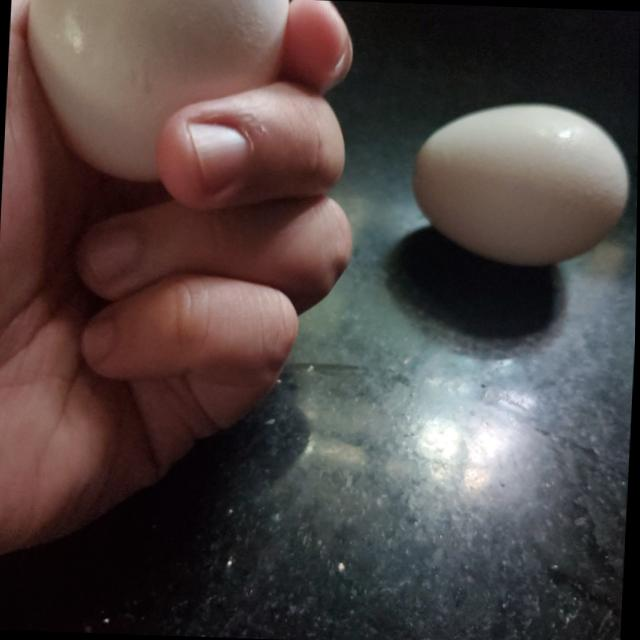egg: (17, 0, 287, 185), (415, 100, 638, 268)
